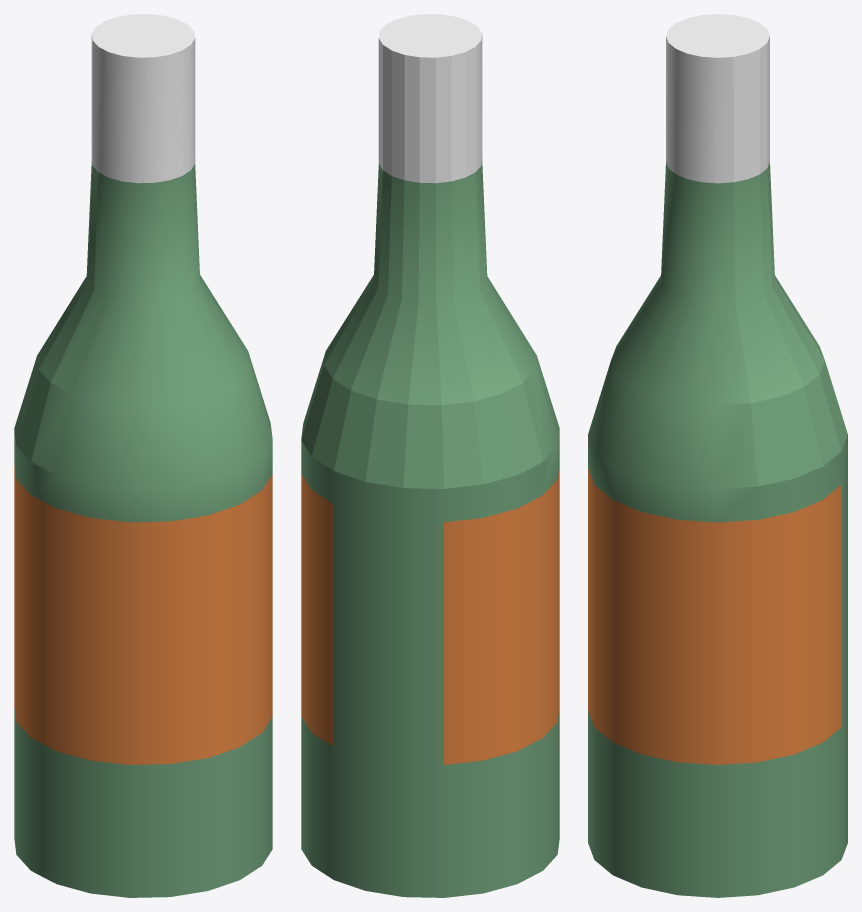
Rendered from bottle02.fbx.
3 views of the same model, side by side, from view 1: azimuth 30°, elevation 25°; view 2: azimuth 150°, elevation 25°; view 3: azimuth 270°, elevation 25° (orthographic).
Visible parts, largest first — view 1: bottle02; view 2: bottle02; view 3: bottle02.
Part boxes in pixels (x1,y1,x2,y2): bottle02: (14,14,272,897); bottle02: (301,14,559,897); bottle02: (588,14,847,897).
Bounding box in the file's own units: 0.4563 × 1.56 × 0.4563.
